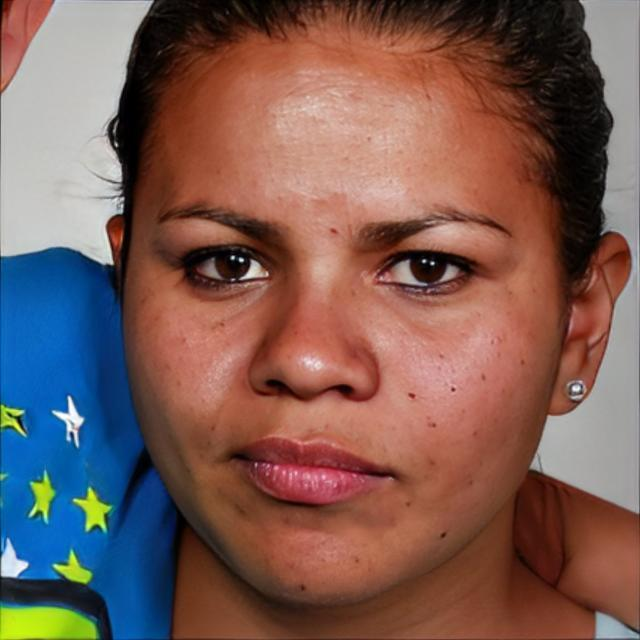anger: (120, 29, 552, 604)
